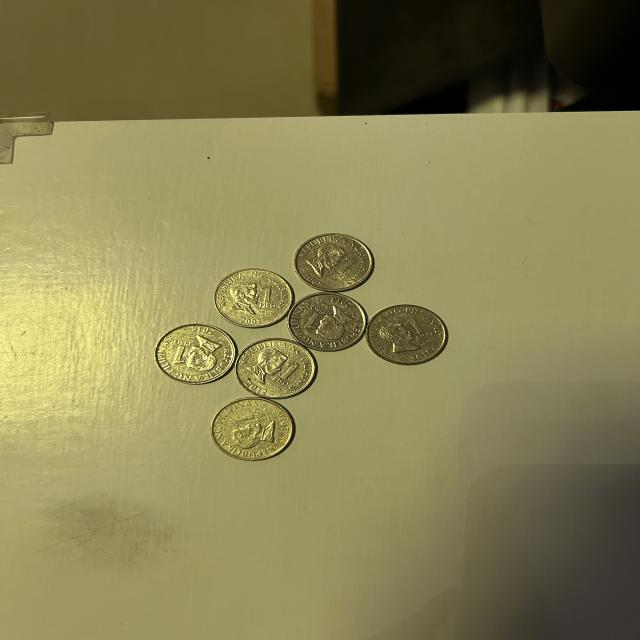1_Old_Front: (394, 316, 437, 346), (324, 253, 361, 276), (166, 336, 186, 370), (230, 409, 271, 424), (254, 280, 275, 308), (276, 359, 298, 385), (304, 304, 325, 331)
